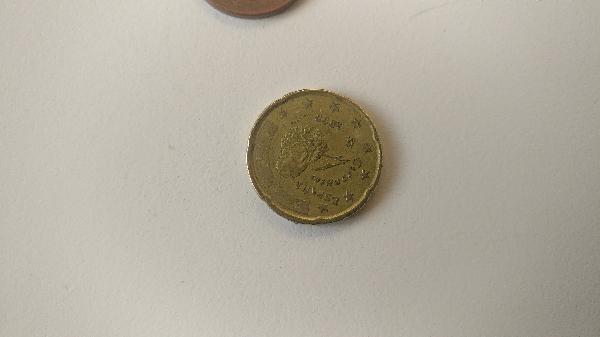Twenty Cent: (245, 85, 382, 223)
